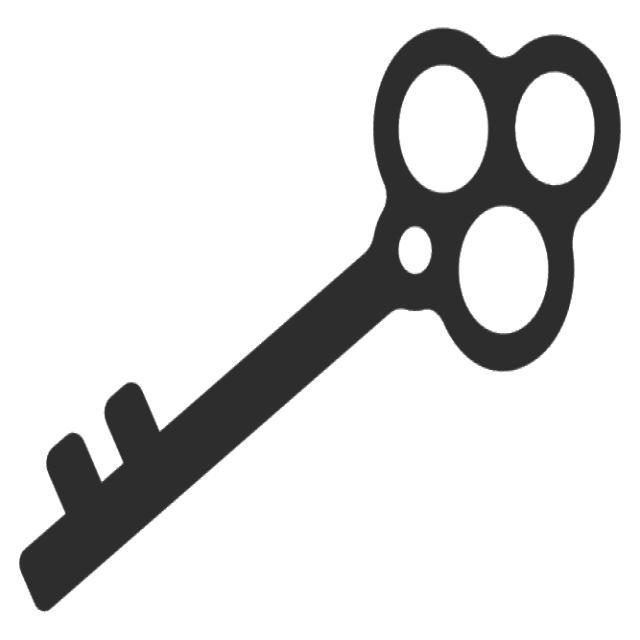key: (8, 19, 635, 630)
